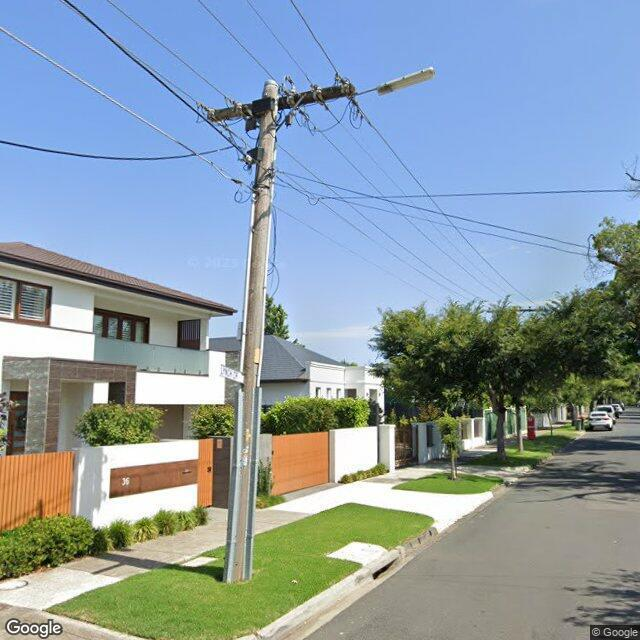crossarm: (207, 83, 356, 123), (486, 308, 548, 313)
streetlight: (354, 67, 436, 96)
timber-pole: (230, 80, 278, 583)
